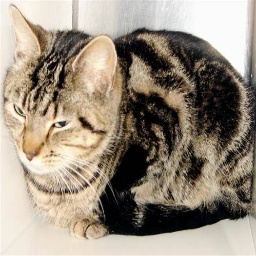cat: (3, 3, 256, 227)
